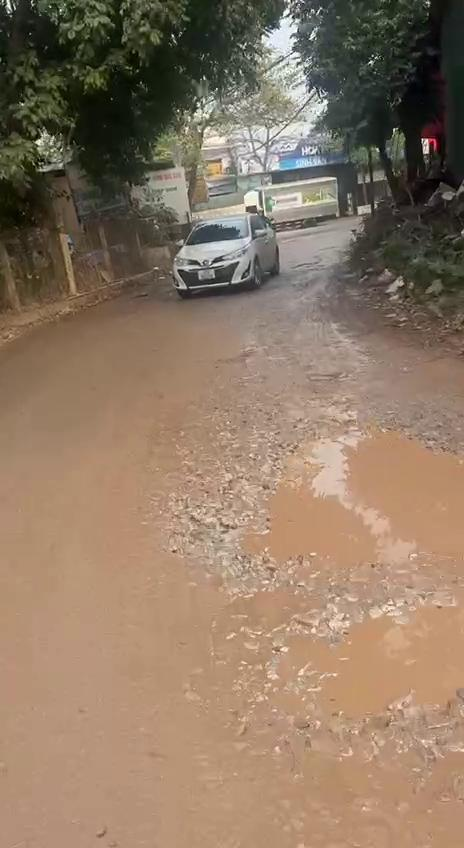pothole: (179, 398, 464, 764)
